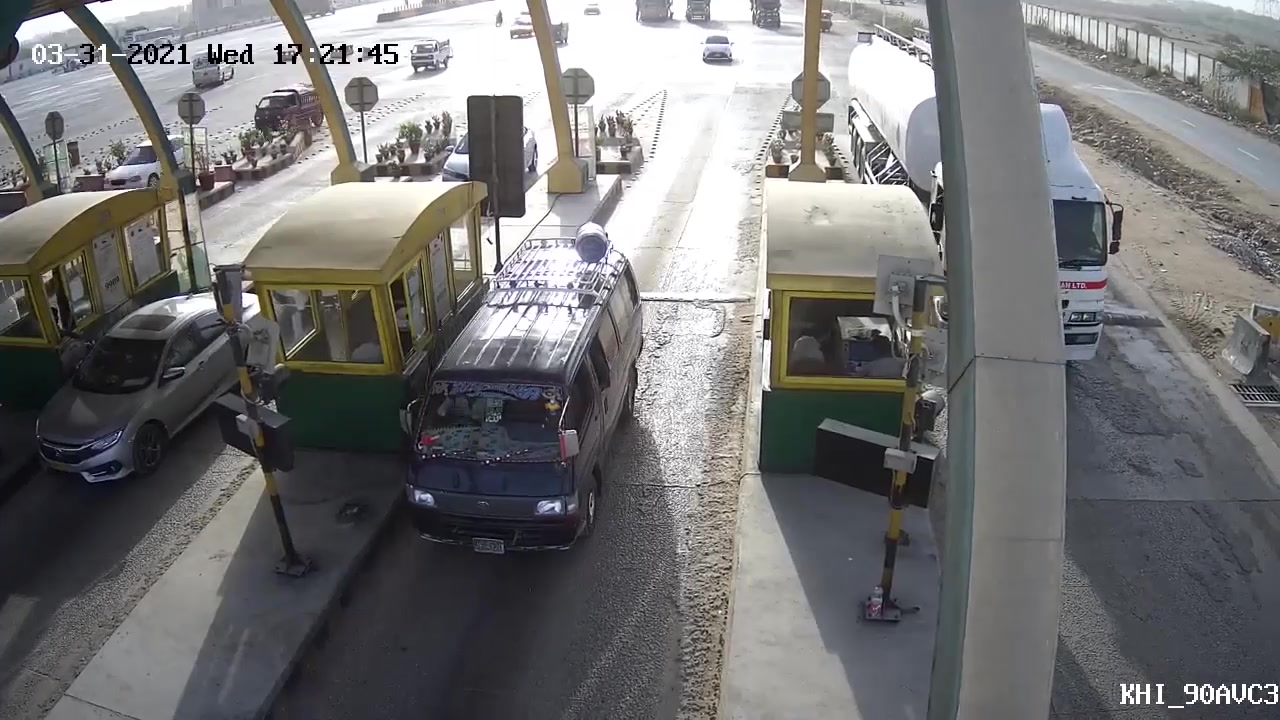F2: (370, 227, 647, 578)
